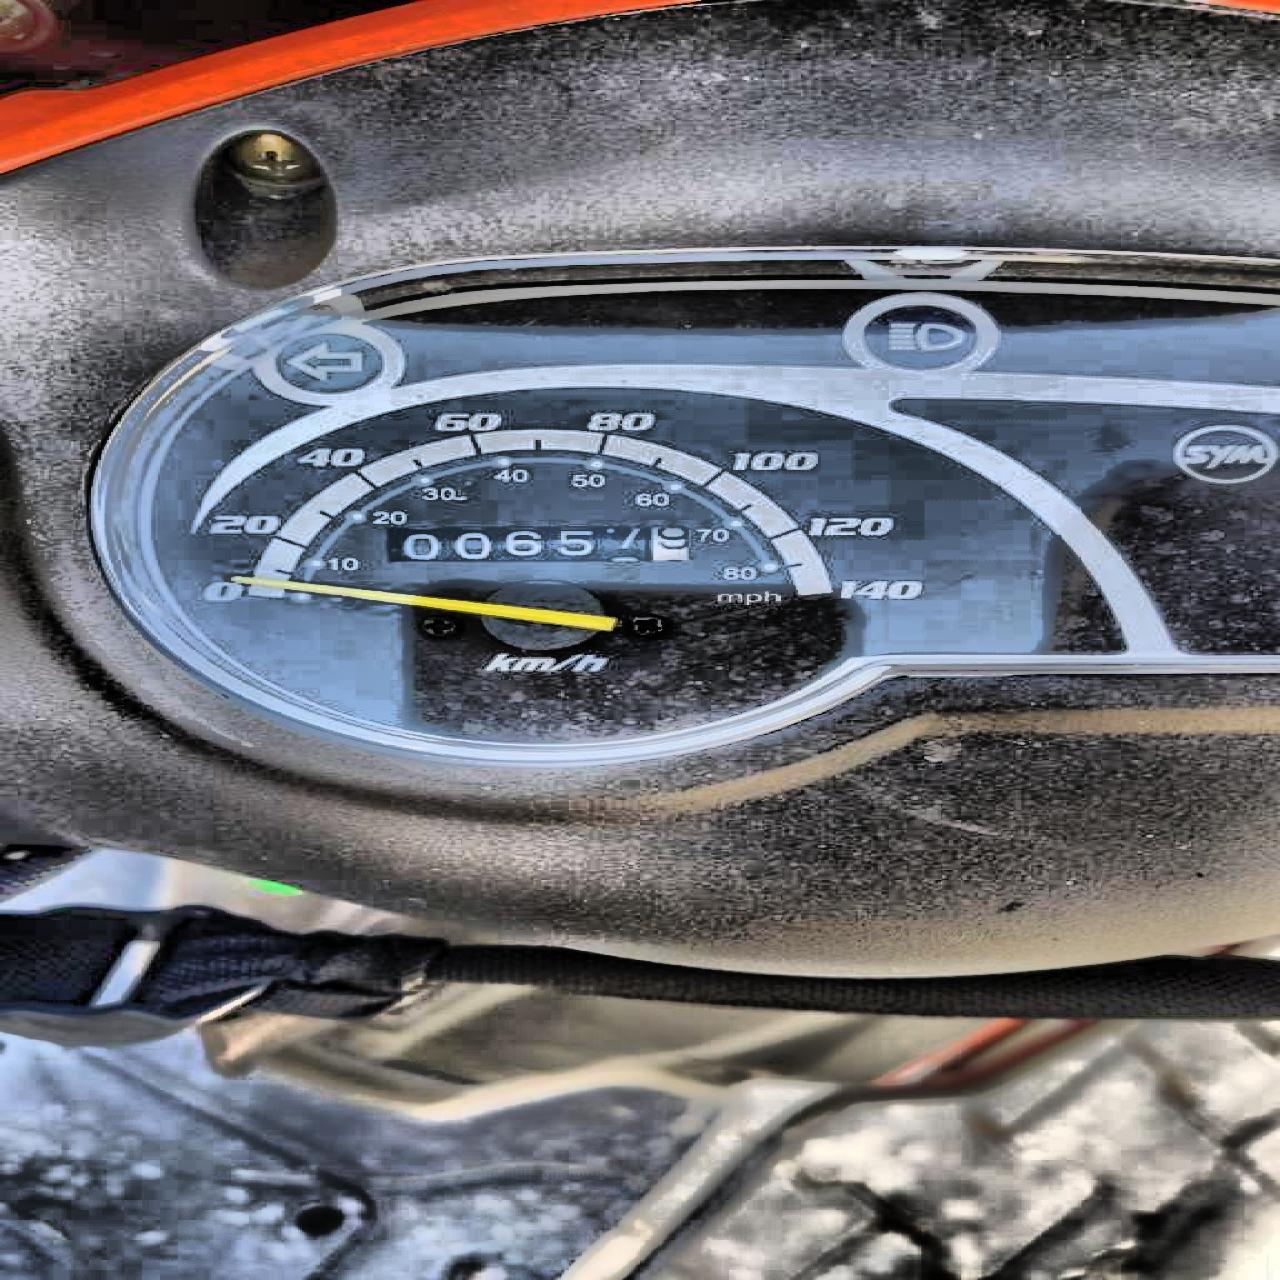0: (454, 531, 489, 558), (402, 532, 437, 558)
5: (556, 529, 591, 554)
6: (502, 529, 540, 553)
7: (602, 525, 638, 549)
9: (653, 524, 687, 549)
odometer: (380, 523, 696, 565)
